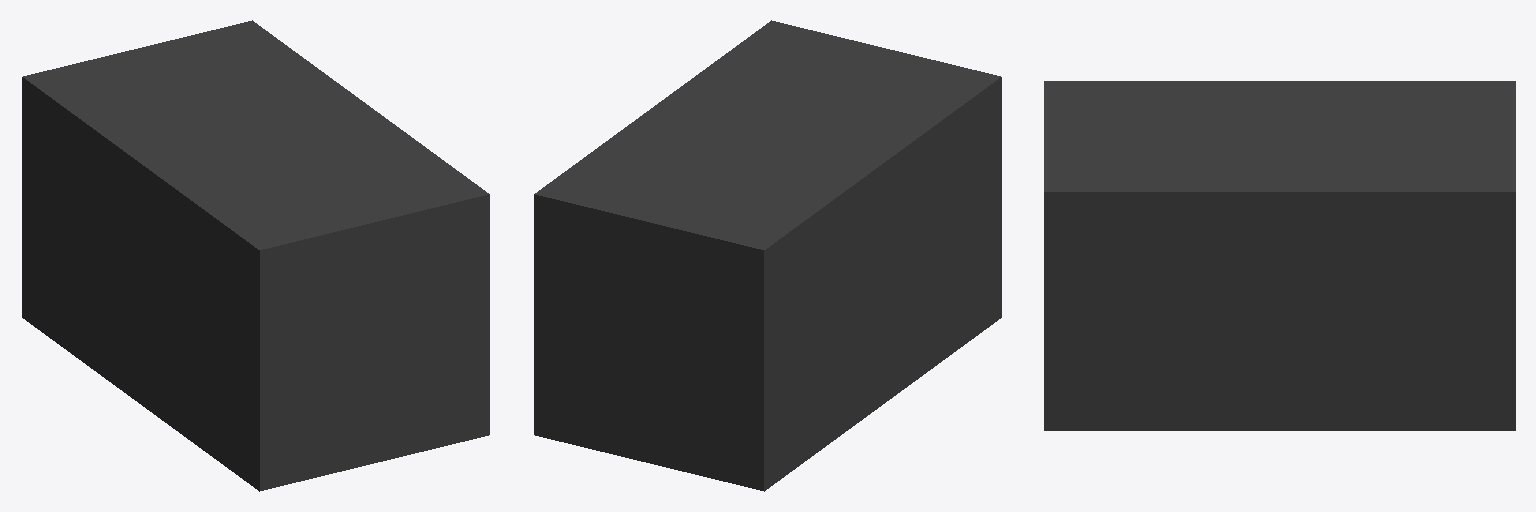
The robot description file, URDF, robot "box.urdf":
<?xml version="1.0" ?>
<robot name="box.urdf">
  <link name="baseLink">
    <contact>
      <lateral_friction value="1.0"/>
      <rolling_friction value="0.0001"/>
      <inertia_scaling value="3.0"/>
    </contact>
    <inertial>
      <origin rpy="0 0 0" xyz="0 0 0"/>
       <mass value="0.1"/>
       <inertia ixx="1" ixy="0" ixz="0" iyy="1" iyz="0" izz="1"/>
    </inertial>
    <visual>
      <origin rpy="0 0 0" xyz="0 0 0"/>
      <geometry>
        <!-- <box size="0.2 0.35700000000000004 0.2"/> -->
        <mesh filename="box/box.obj" scale="0.2 0.35700000000000004 0.2"/>
      </geometry>
      <material name="white">
        <color rgba="0.3 0.3 0.3 1"/>
      </material>
    </visual>
    <collision>
      <origin rpy="0 0 0" xyz="0 0 0"/>
      <geometry>
        <mesh filename="box/box.obj" scale="0.2 0.35700000000000004 0.2"/>
	 	    <!-- <box size="0.2 0.35700000000000004 0.2"/> -->
      </geometry>
    </collision>
  </link>
</robot>

--- Facts derived from the render (not from the file) ---
3 views of the same robot in one strip: view 1: azimuth 30°, elevation 25°; view 2: azimuth 150°, elevation 25°; view 3: azimuth 270°, elevation 25° (orthographic).
Model box.urdf with 1 links and 0 joints (none), rooted at baseLink, posed every joint at zero.
Links seen in each view (by area): view 1: baseLink; view 2: baseLink; view 3: baseLink.
Link boxes in pixels (x1,y1,x2,y2): baseLink: (22, 20, 489, 491); baseLink: (534, 20, 1001, 491); baseLink: (1044, 81, 1515, 430).
Bounding box of the posed robot: 0.2 × 0.357 × 0.2 m (x, y, z).
Meshes: 1 distinct files referenced, 1 mesh visuals loaded (1 OBJ).
